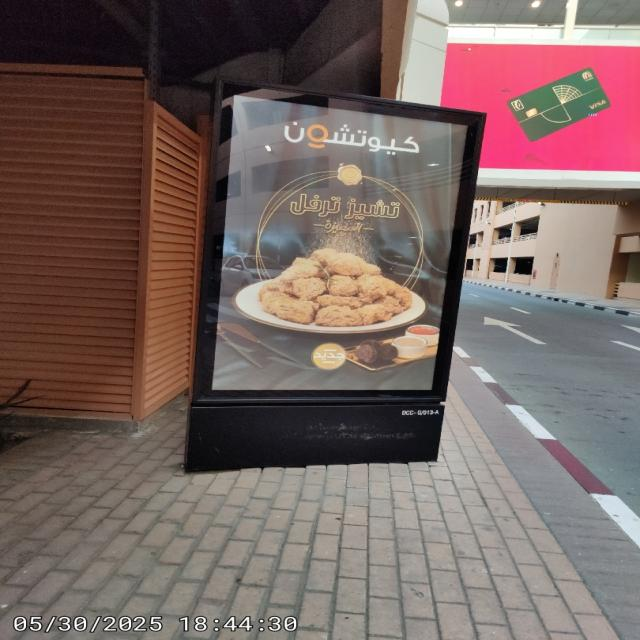mupi: (186, 76, 487, 473)
